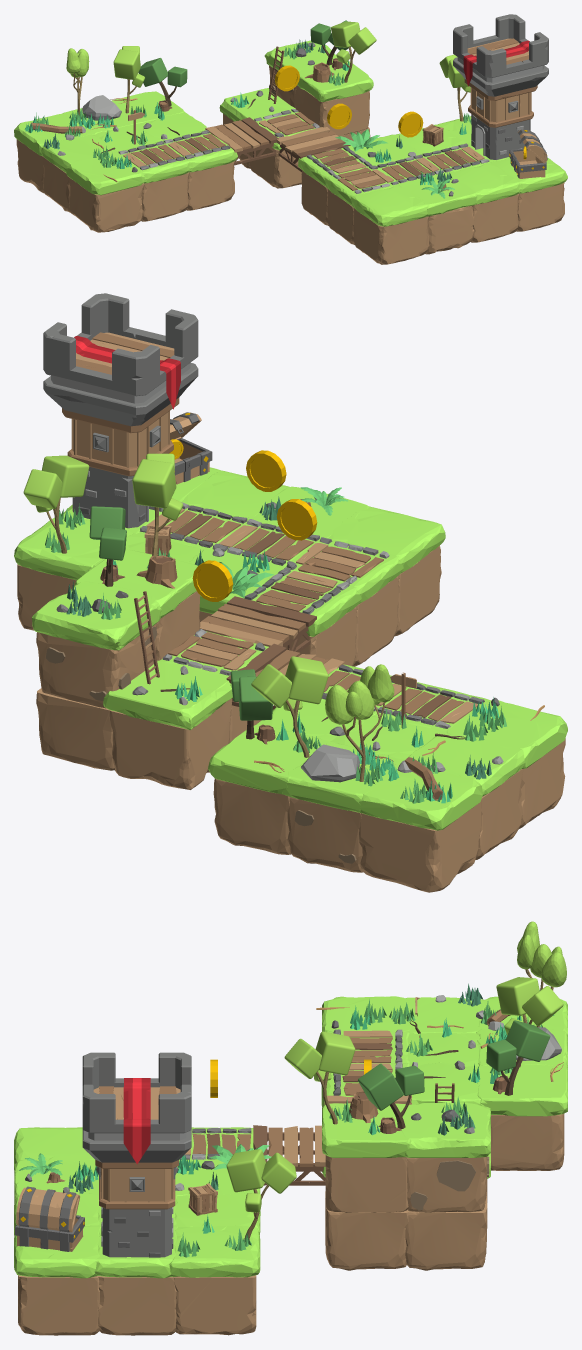
3 renders of one model, top to bottom at view 1: azimuth 30°, elevation 25°; view 2: azimuth 150°, elevation 25°; view 3: azimuth 270°, elevation 25°, orthographic. The views are drawn at different scales.
Visible parts, largest first — view 1: TowerV1, Tile_Bot_Part_6, Tile_Bot_Part_13, Tile_Top_Part_6, Tile_Top_Part_13, Tile_Bot_Part_23, Bridge_003_1, Tile_Bot_Part, Tile_Bot_Part_11, Tile_Bot_Part_1, Tile_Bot_Part_21, Tile_Bot_Part_9 (+51 smaller); view 2: TowerV1, Tile_Bot_Part_19, Tile_Bot_Part_12, Tile_Bot_Part_24, Tile_Top_Part_12, Tile_Top_Part_24, TileBotFlat_000_1, Tile_Top_Part_19, Tile_Bot_Part_17, Tile_Top_Part_17, Tile_Bot_Part_18, Tile_Top_Part_6 (+44 smaller); view 3: TowerV1, Tile_Bot_Part_11, Tile_Bot_Part_22, TileBotFlat_000, TileBotFlat_000_1, Tile_Bot_Part_23, Tile_Bot_Part_10, Tile_Bot_Part_17, Tile_Top_Part_24, Tile_Top_Part_22, Tile_Top_Part_17, Tile_Top_Part_23 (+32 smaller).
Boxes of the visible parts, <box> form: TowerV1: <box>453,14,548,159</box>; Tile_Bot_Part_6: <box>353,208,429,264</box>; Tile_Bot_Part_13: <box>68,177,144,232</box>; Tile_Top_Part_6: <box>350,185,428,226</box>; Tile_Top_Part_13: <box>66,152,144,195</box>; Tile_Bot_Part_23: <box>294,85,369,136</box>; Bridge_003_1: <box>205,117,278,165</box>; Tile_Bot_Part: <box>186,161,234,210</box>; Tile_Bot_Part_11: <box>516,182,564,231</box>; Tile_Bot_Part_1: <box>141,172,188,221</box>; Tile_Bot_Part_21: <box>425,205,474,254</box>; Tile_Bot_Part_9: <box>471,194,518,242</box>; TowerV1: <box>43,293,198,528</box>; Tile_Bot_Part_19: <box>359,800,481,892</box>; Tile_Bot_Part_12: <box>109,698,232,789</box>; Tile_Bot_Part_24: <box>36,623,157,708</box>; Tile_Top_Part_12: <box>103,661,232,729</box>; Tile_Top_Part_24: <box>31,581,161,650</box>; TileBotFlat_000_1: <box>36,688,114,770</box>; Tile_Top_Part_19: <box>359,766,483,830</box>; Tile_Bot_Part_17: <box>213,778,291,854</box>; Tile_Top_Part_17: <box>208,724,330,794</box>; Tile_Bot_Part_18: <box>287,797,363,872</box>; Tile_Top_Part_6: <box>327,506,445,573</box>; TowerV1: <box>82,1052,191,1257</box>; Tile_Bot_Part_11: <box>18,1275,99,1335</box>; Tile_Bot_Part_22: <box>173,1275,256,1335</box>; TileBotFlat_000: <box>325,1181,408,1270</box>; TileBotFlat_000_1: <box>405,1192,487,1270</box>; Tile_Bot_Part_23: <box>325,1155,408,1212</box>; Tile_Bot_Part_10: <box>98,1276,176,1335</box>; Tile_Bot_Part_17: <box>491,1113,564,1170</box>; Tile_Top_Part_24: <box>401,1103,490,1157</box>; Tile_Top_Part_22: <box>169,1225,260,1277</box>; Tile_Top_Part_17: <box>477,1062,567,1116</box>; Tile_Top_Part_23: <box>322,1103,411,1157</box>.
Size of the model in its own units: 8.33 by 3.5 by 7.2.
1 material, 1 textured.
